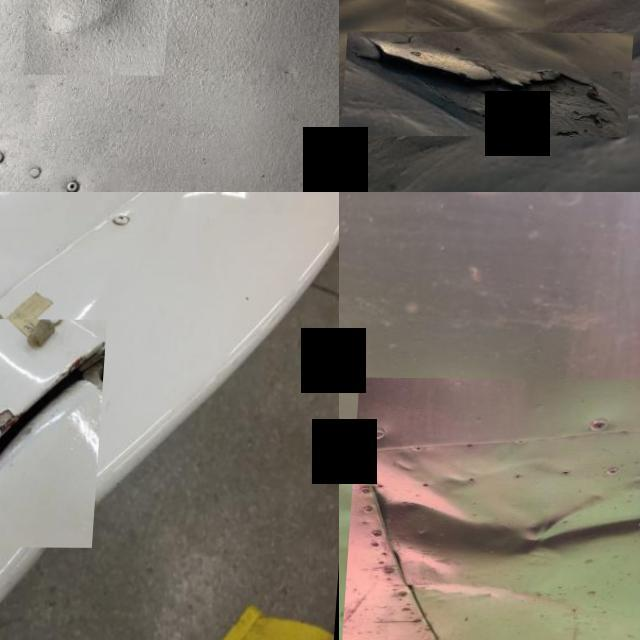Crack: (345, 31, 636, 137), (0, 318, 110, 547)
Dent: (348, 377, 640, 640), (27, 0, 176, 75), (407, 0, 550, 27)
